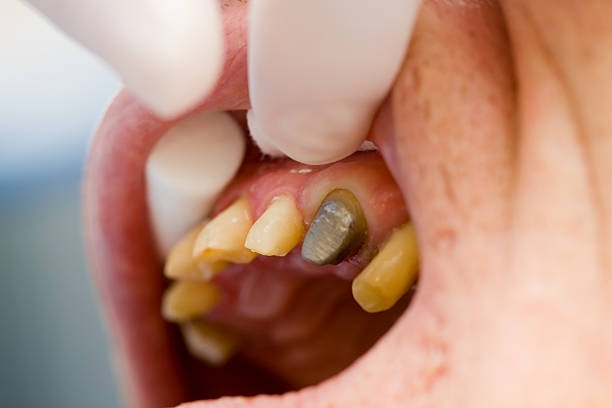Tooth Discoloration: (352, 215, 421, 316), (296, 189, 363, 266)
